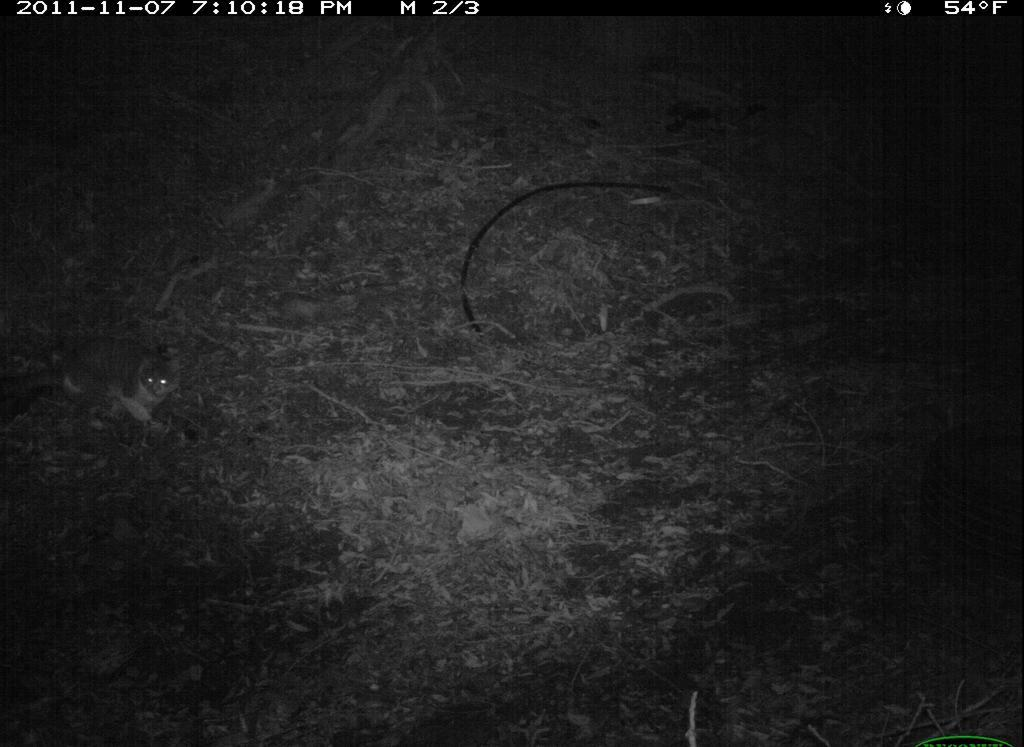cat: (1, 331, 191, 468)
